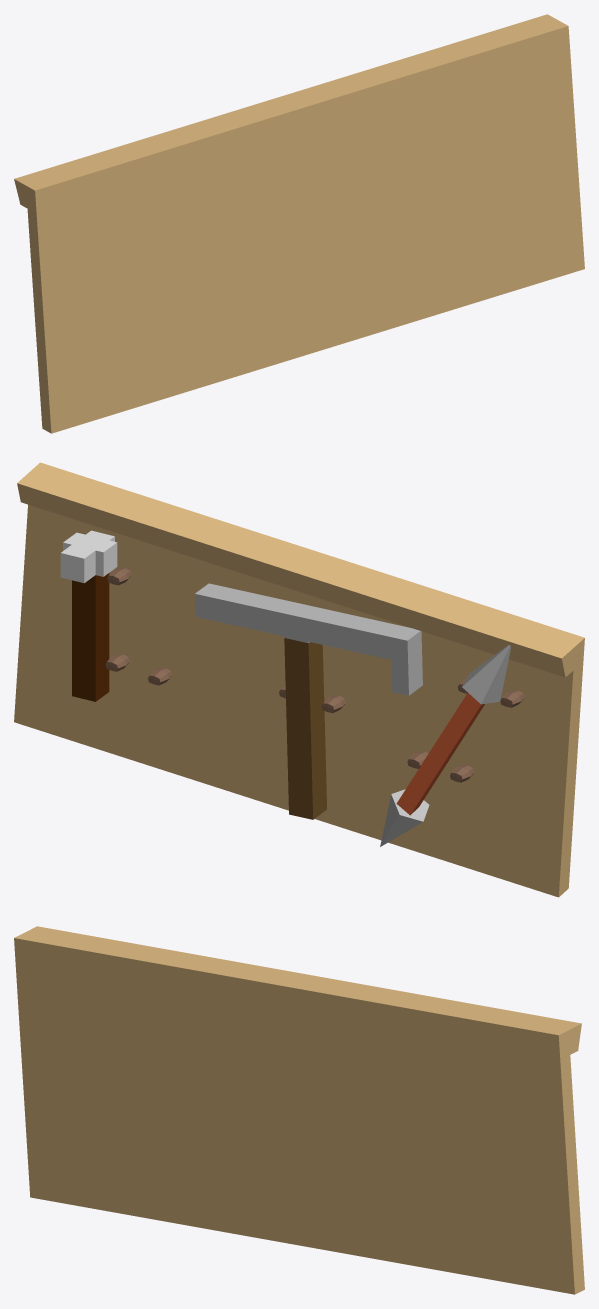
File: sciana.glb
3 renders of one model, top to bottom at view 1: azimuth 30°, elevation 25°; view 2: azimuth 150°, elevation 25°; view 3: azimuth 330°, elevation 25°, orthographic. The views are drawn at different scales.
Parts seen in each view (by area): view 1: Cube.002; view 2: Cube.002; view 3: Cube.002.
Boxes of the visible parts, <box> form: Cube.002: <box>14,14,584,433</box>; Cube.002: <box>14,462,584,897</box>; Cube.002: <box>14,926,584,1294</box>.
Size of the model in its own units: 1.15 by 0.5764 by 0.145.
